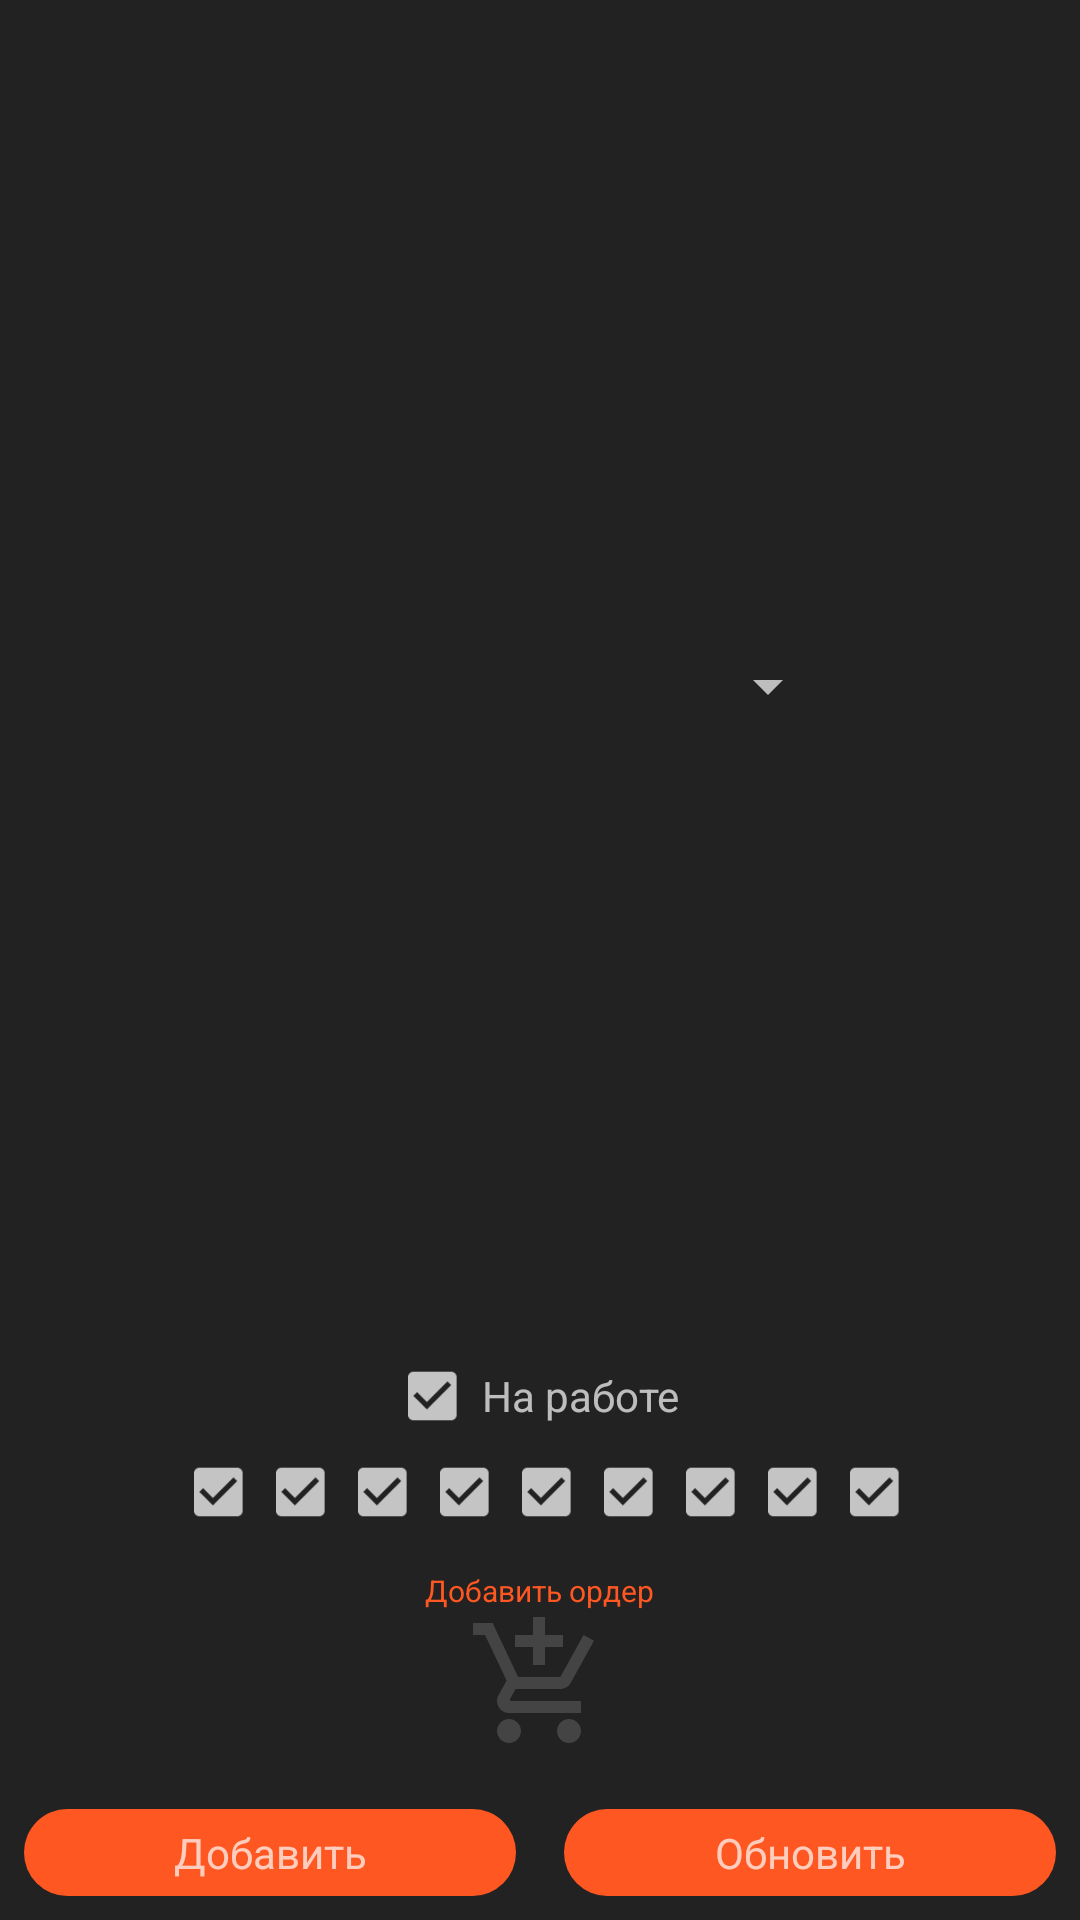

Where to tap for icons on this 1080 × 1920 app screen, as point (x, y):
add shopping cart: point (533, 1680)
